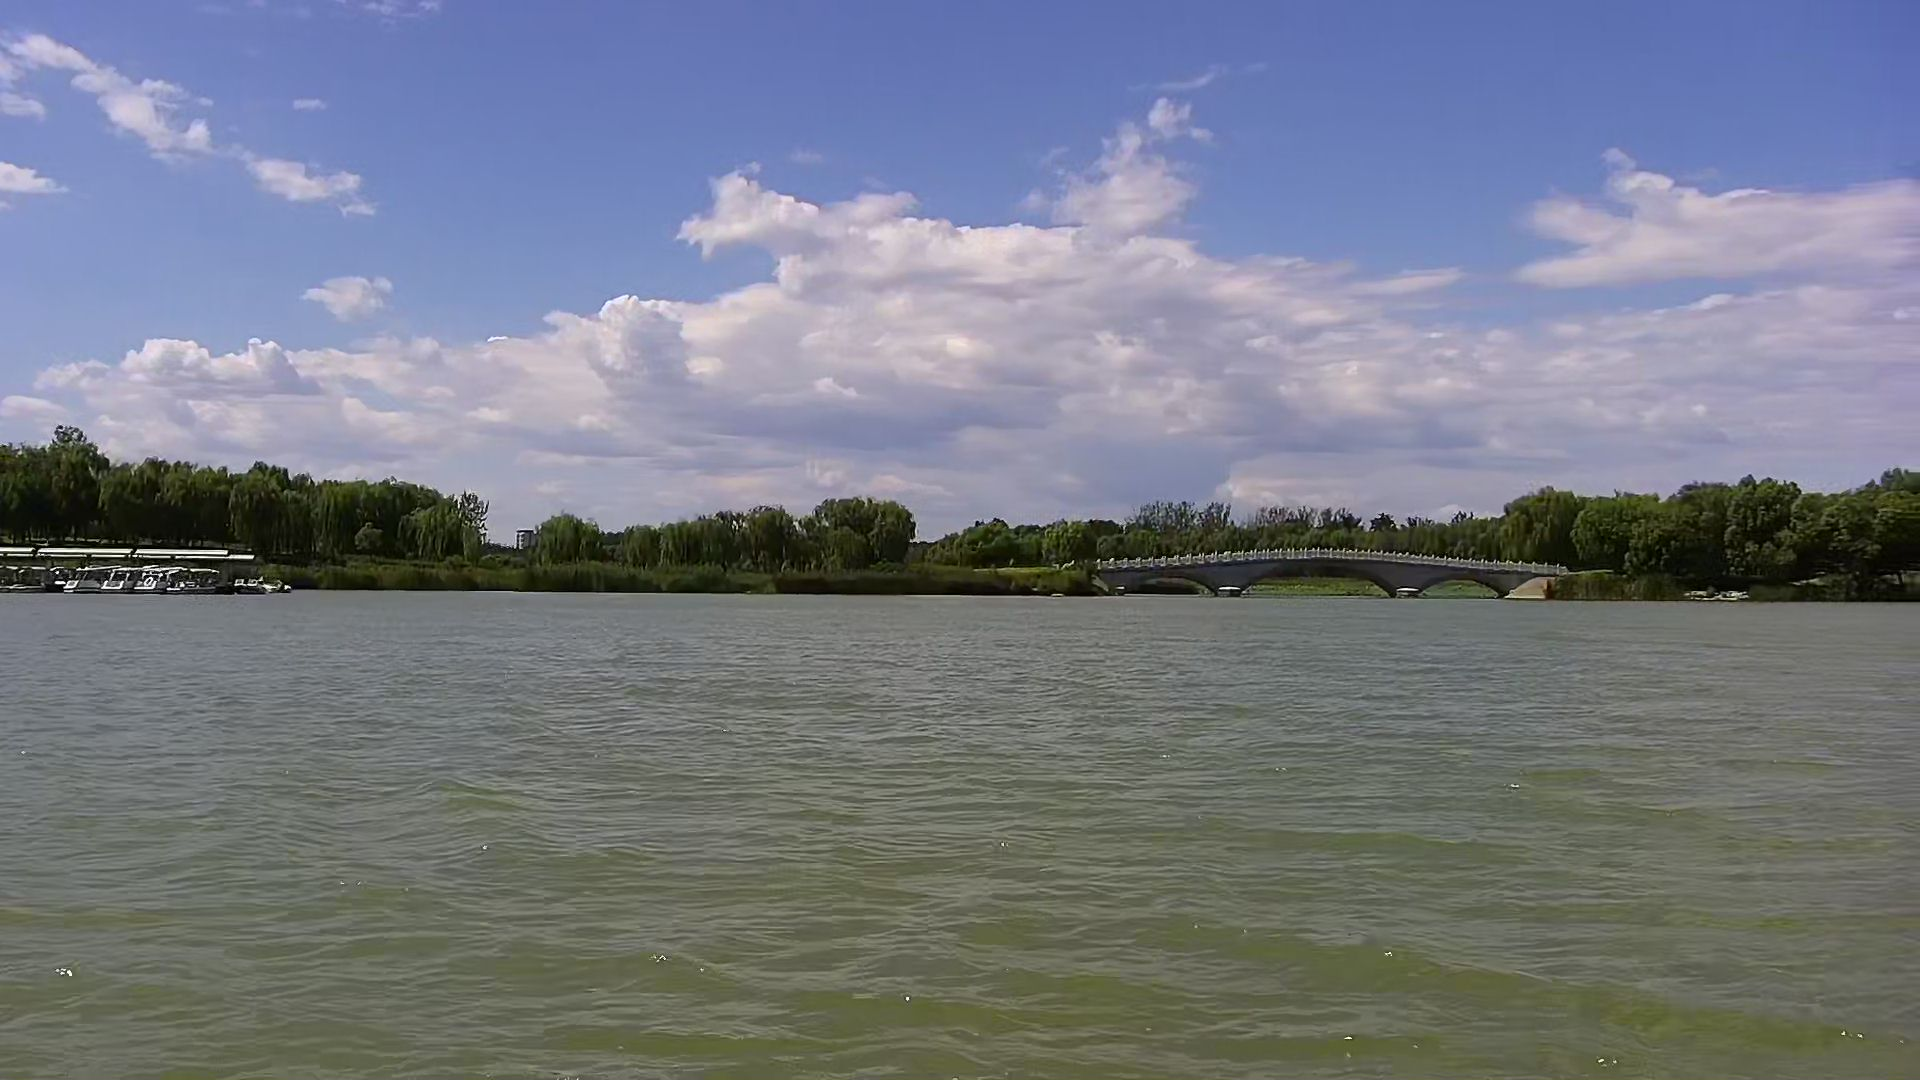bridge: (1085, 553, 1563, 604)
harbor: (1, 547, 285, 601)
